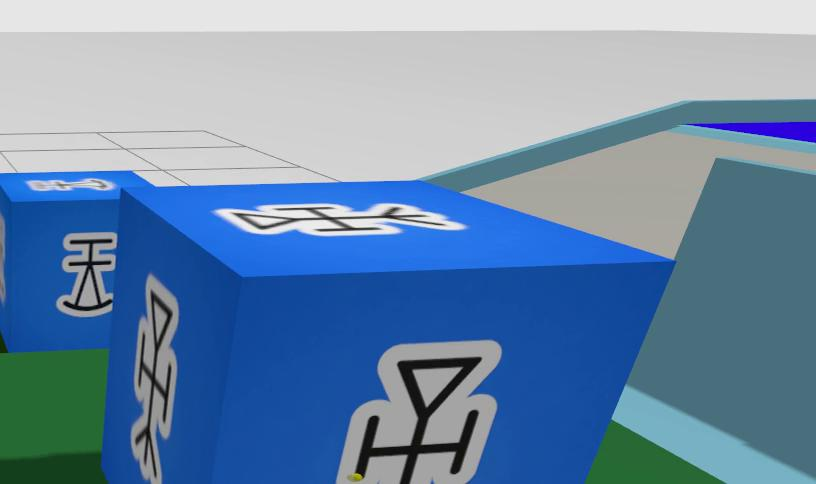KFS_REAL: (102, 181, 673, 484), (0, 170, 147, 348), (337, 341, 500, 484), (131, 274, 178, 484), (215, 203, 465, 235), (56, 233, 116, 317), (27, 177, 116, 190)
